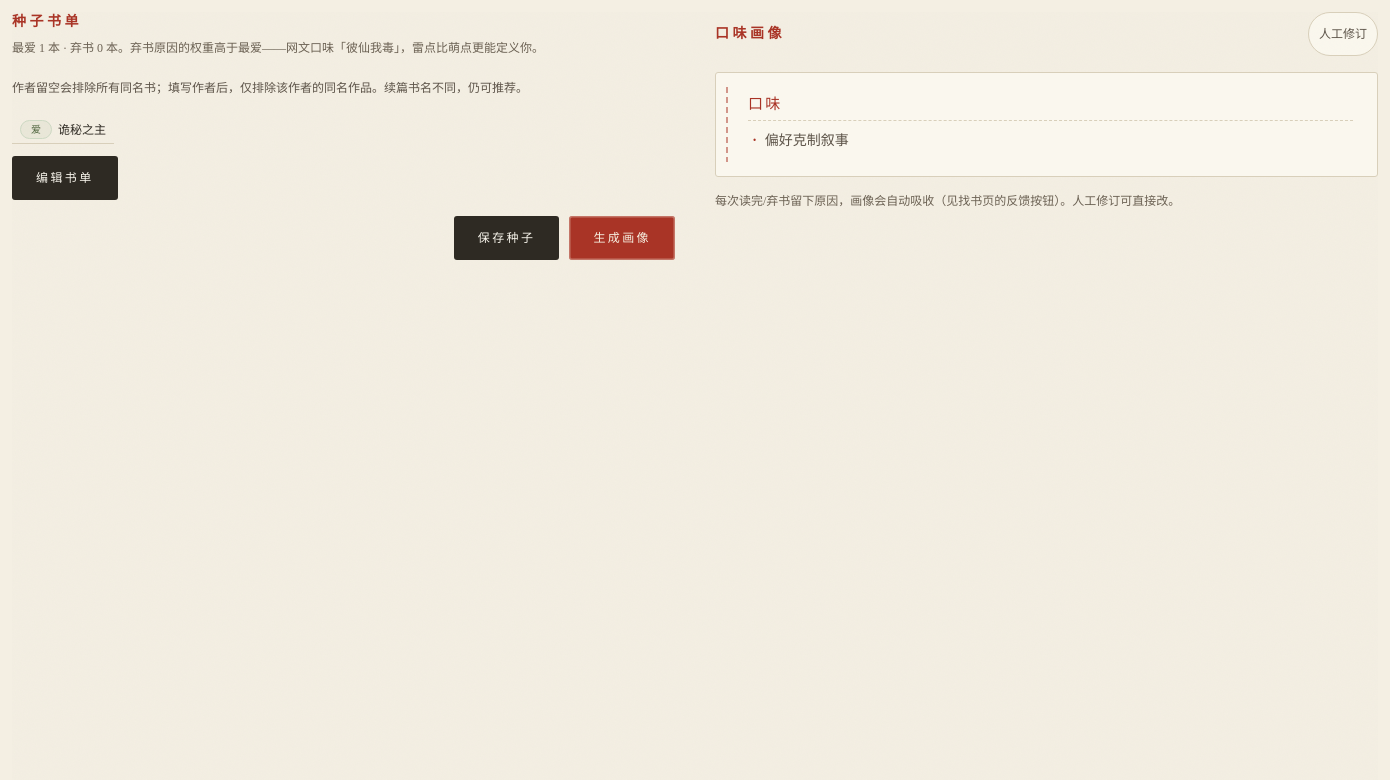
Test: ProfileTab:人工修订画像 › 保存冲突(409 PROFILE_CONFLICT):给出「画像有新版本」区,保留草稿
Expected: the text "诡秘之主" is shown, left=58, top=122, right=106, bottom=138
Click the button "人工修订" at [1343, 34], box left=1308, top=12, right=1378, bottom=56
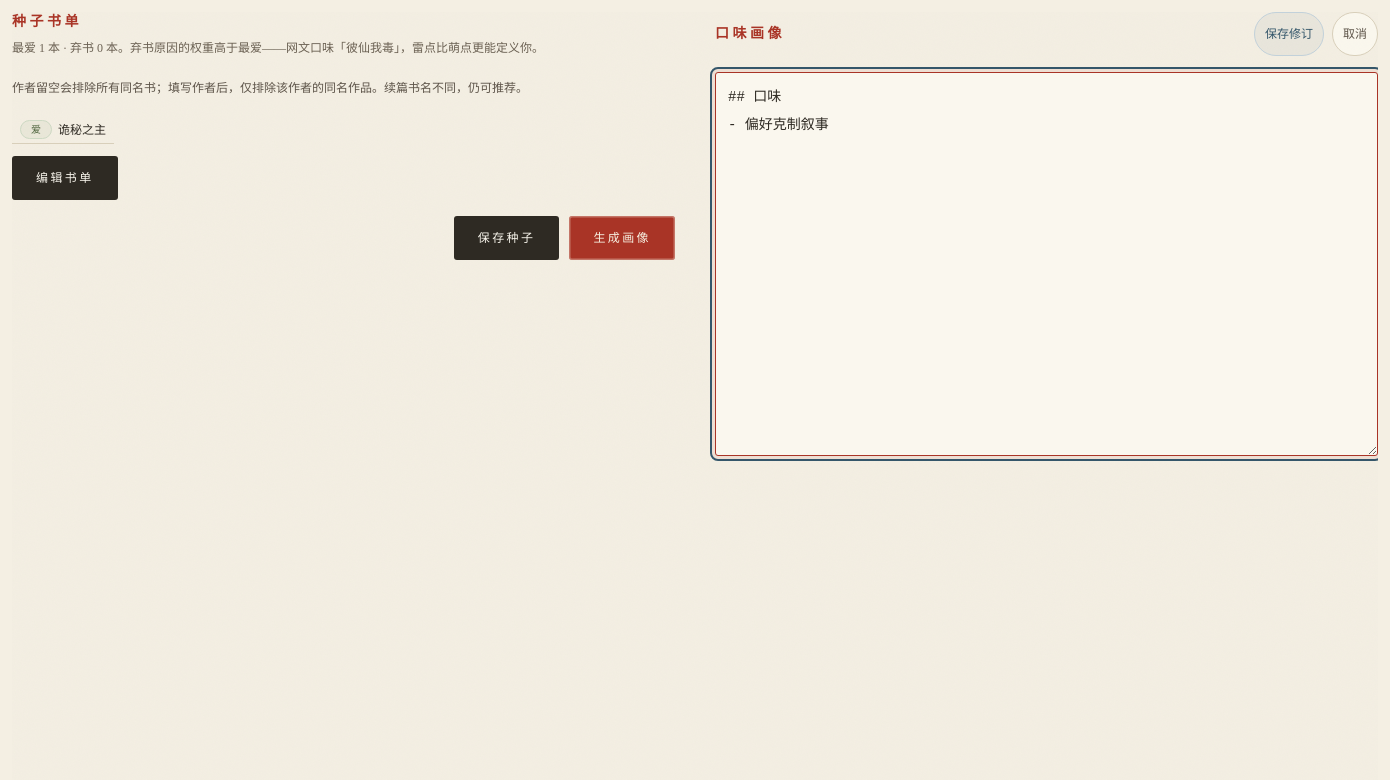
Replace the text in the text box with "我的草稿" at [1046, 264], box left=715, top=72, right=1378, bottom=456
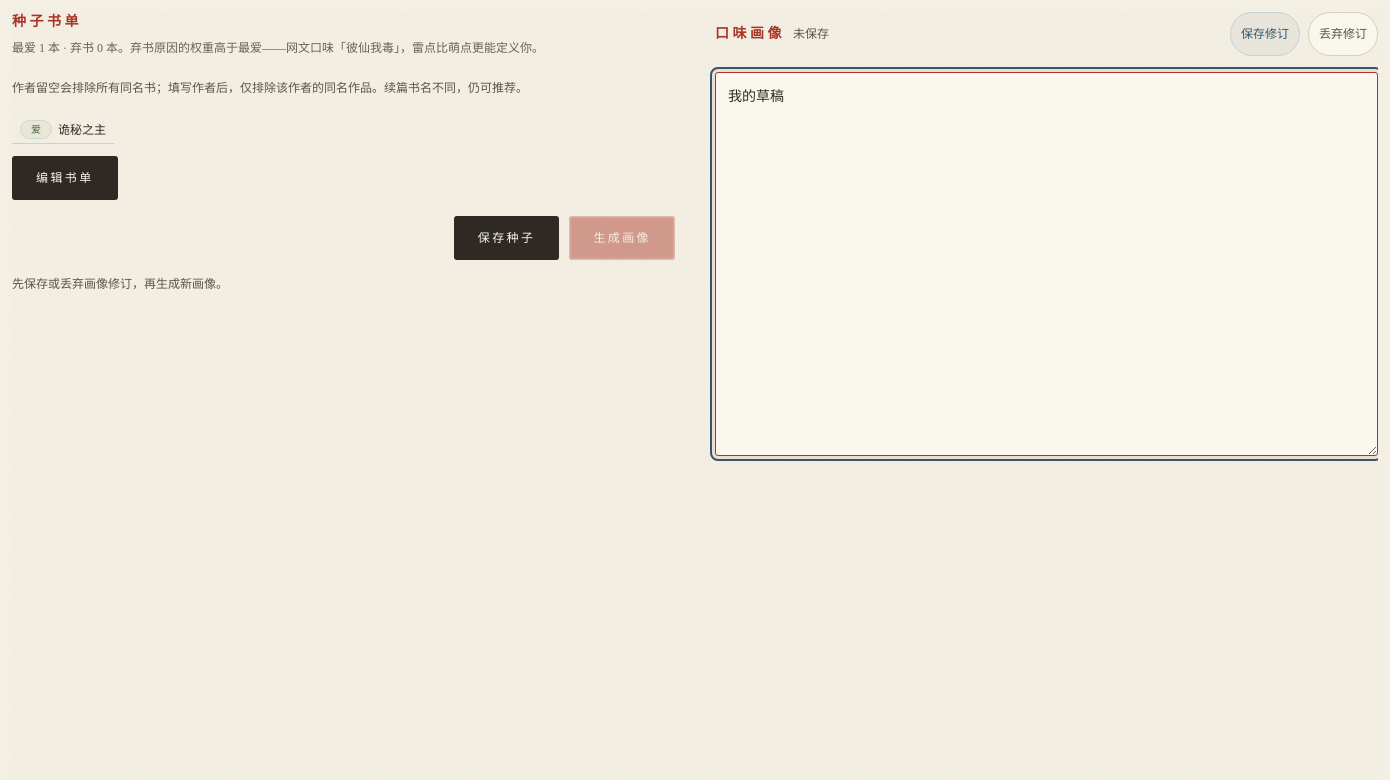
Click the button "保存修订" at [1265, 34], box left=1230, top=12, right=1300, bottom=56
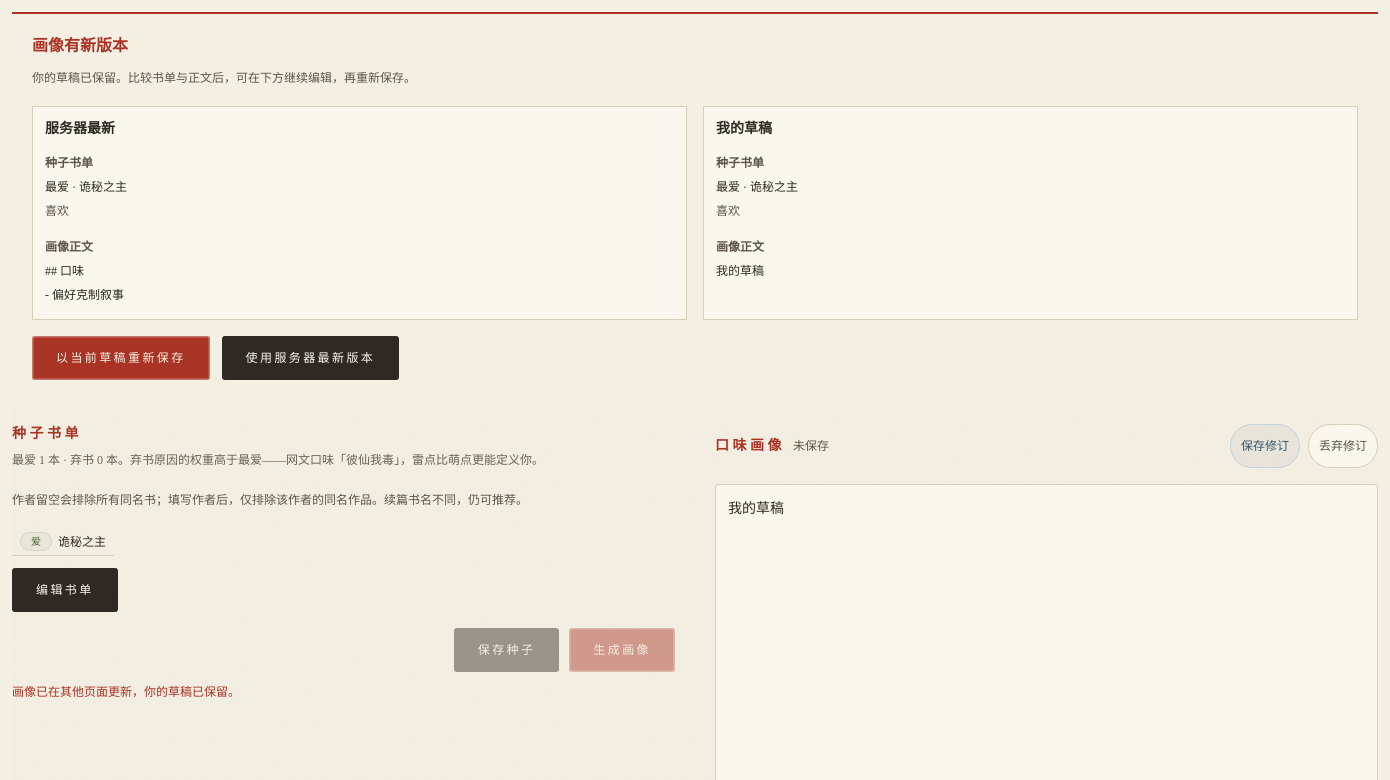
Expected: the heading "服务器最新" is shown, left=45, top=121, right=115, bottom=136
Expected: the button "以当前草稿重新保存" is shown, left=32, top=336, right=210, bottom=380
Expected: the button "使用服务器最新版本" is shown, left=222, top=336, right=399, bottom=380
